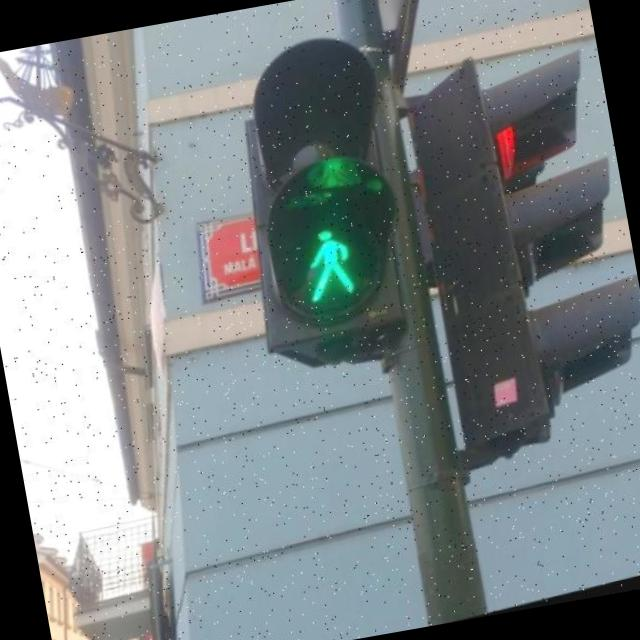green_light: (286, 212, 378, 320)
